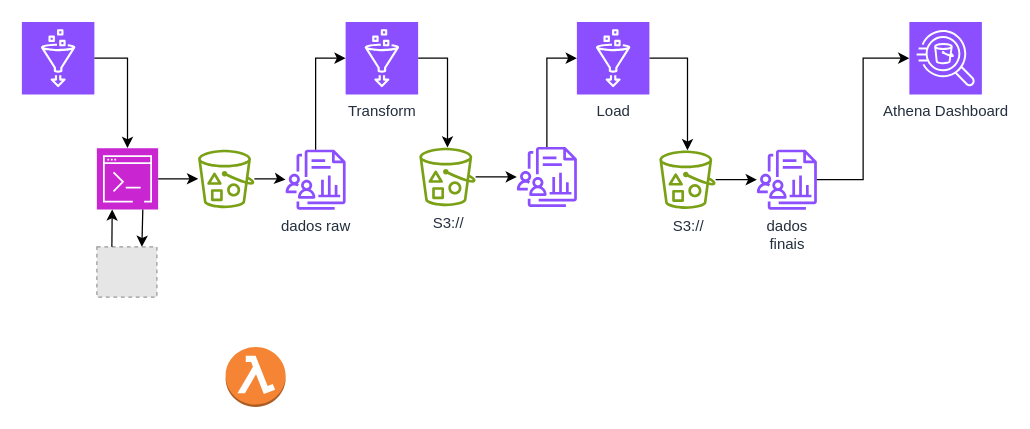
Image size: 1030x429. Some labels were removed from this diagram. Grey dashed boxes stand in for pictures. The centre of each missing label's shape, as x and y in pixels:
"dados transformados" goes at (546,176).
"Extraction" goes at (57,57).
"S3 Parket (Partição Diária)" goes at (226,178).
